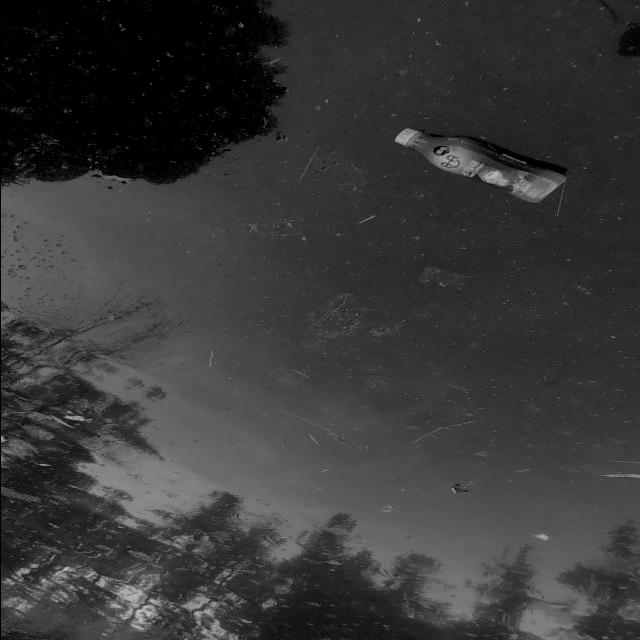bottle: (382, 126, 592, 218)
